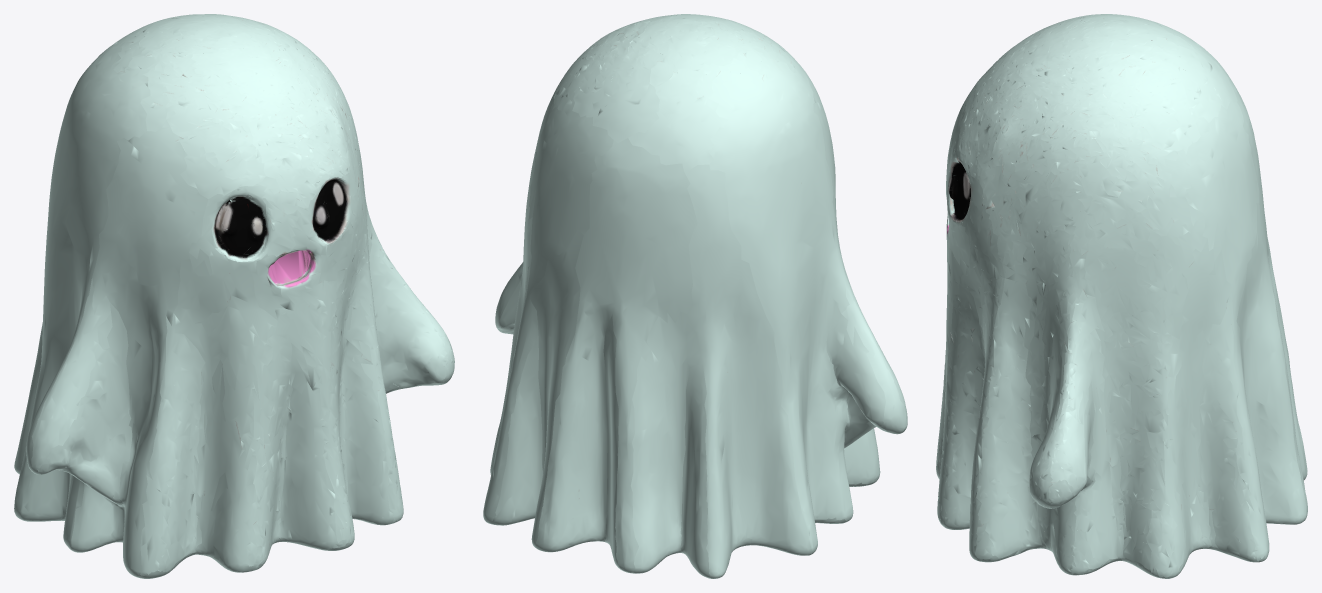
Rendered from fantasma2.glb.
The picture shows the model from 3 angles, left to right: view 1: azimuth 30°, elevation 25°; view 2: azimuth 150°, elevation 25°; view 3: azimuth 270°, elevation 25°; orthographic projection.
Visible parts, largest first — view 1: world; view 2: world; view 3: world.
Part boxes in pixels (bbox=[...]): world: bbox=[14, 14, 454, 578]; world: bbox=[483, 14, 907, 578]; world: bbox=[936, 14, 1307, 578].
Size of the model in its own units: 1.83 by 1.99 by 1.42.
1 material, 1 textured.
